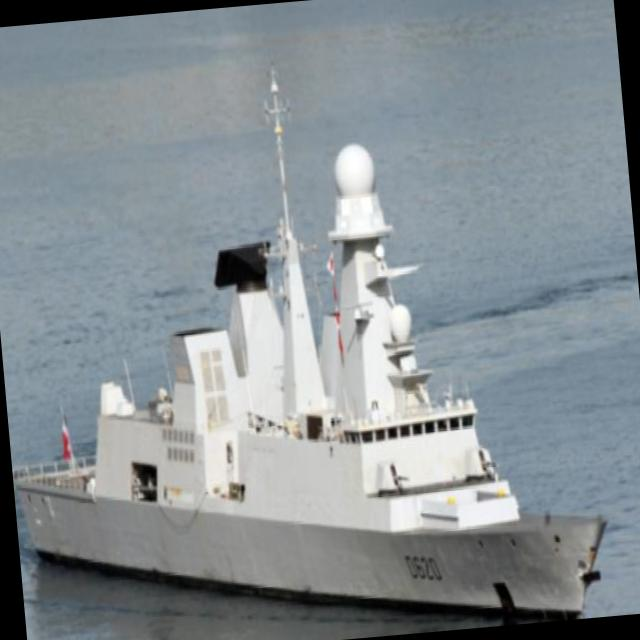Military: (12, 73, 603, 618)
